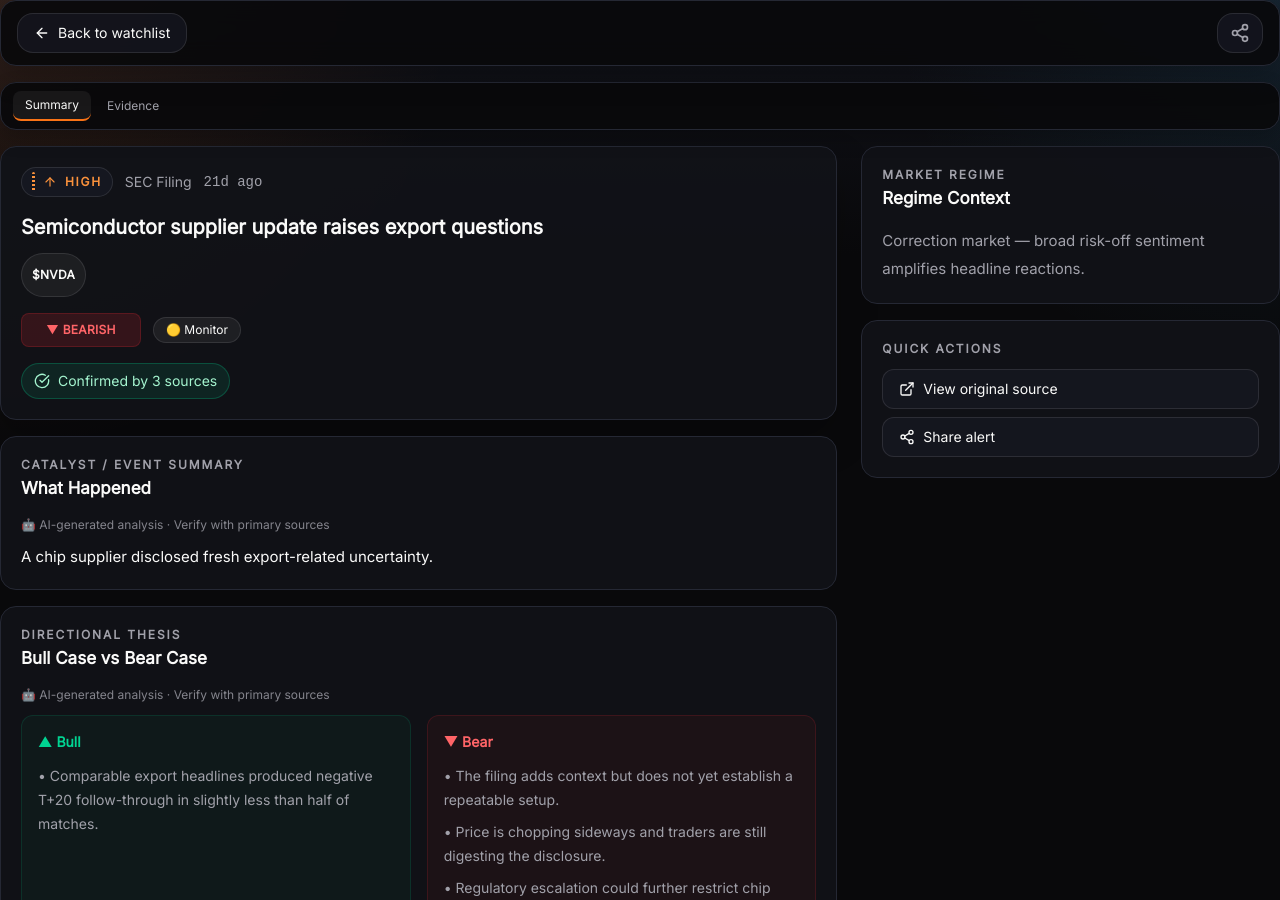
Test: EventDetail page › hides historical pattern when no historical context exists
The image size is (1280, 900).
Click the button "Evidence" at {"x": 133, "y": 106}, box [95,91,171,121]
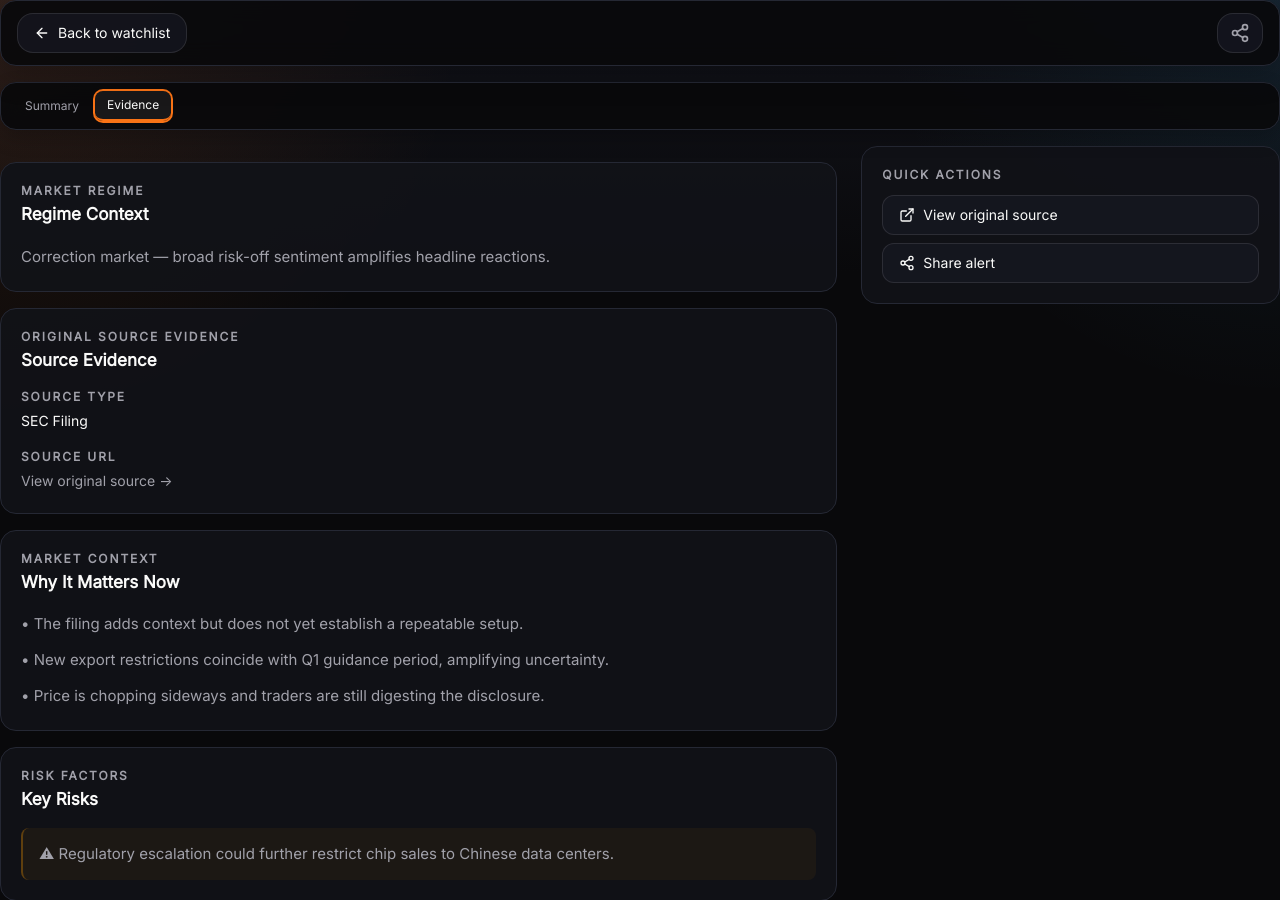
Expected: the heading "Source Evidence" is shown, [21,350,157,370]
